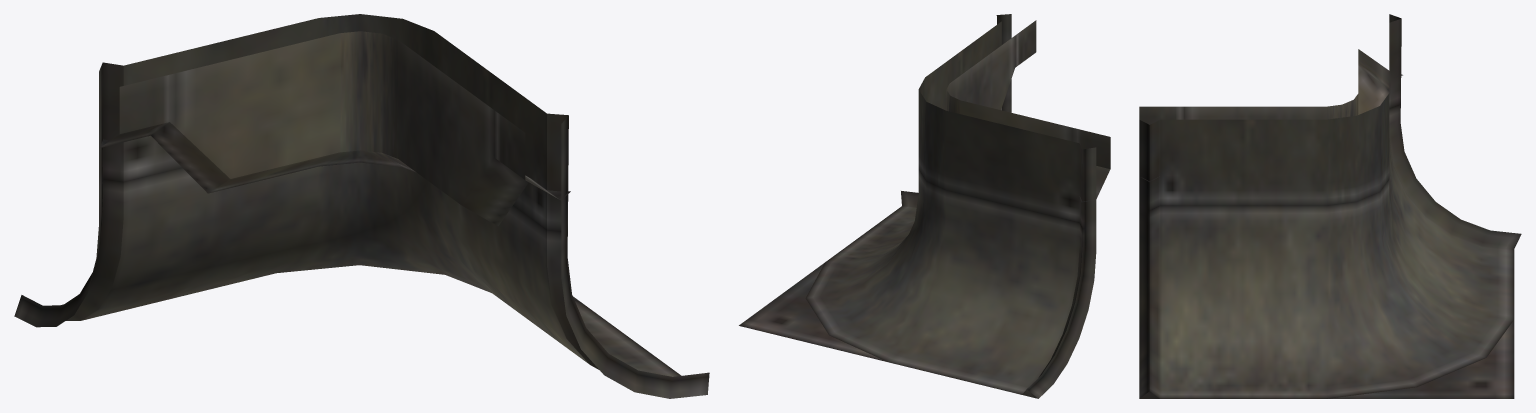
Rendered from welder_ceiling_concave_small_pplant.dae.
3 views of the same model, side by side, from view 1: azimuth 30°, elevation 25°; view 2: azimuth 150°, elevation 25°; view 3: azimuth 270°, elevation 25° (orthographic). The views are drawn at different scales.
Parts seen in each view (by area): view 1: polySurface14; view 2: polySurface14; view 3: polySurface14.
Part boxes in pixels (box(x1,y1,x2,y2)): polySurface14: box(14, 14, 709, 398); polySurface14: box(739, 14, 1110, 398); polySurface14: box(1139, 14, 1521, 398).
Bounding box in the file's own units: 76.52 × 50 × 76.52.
